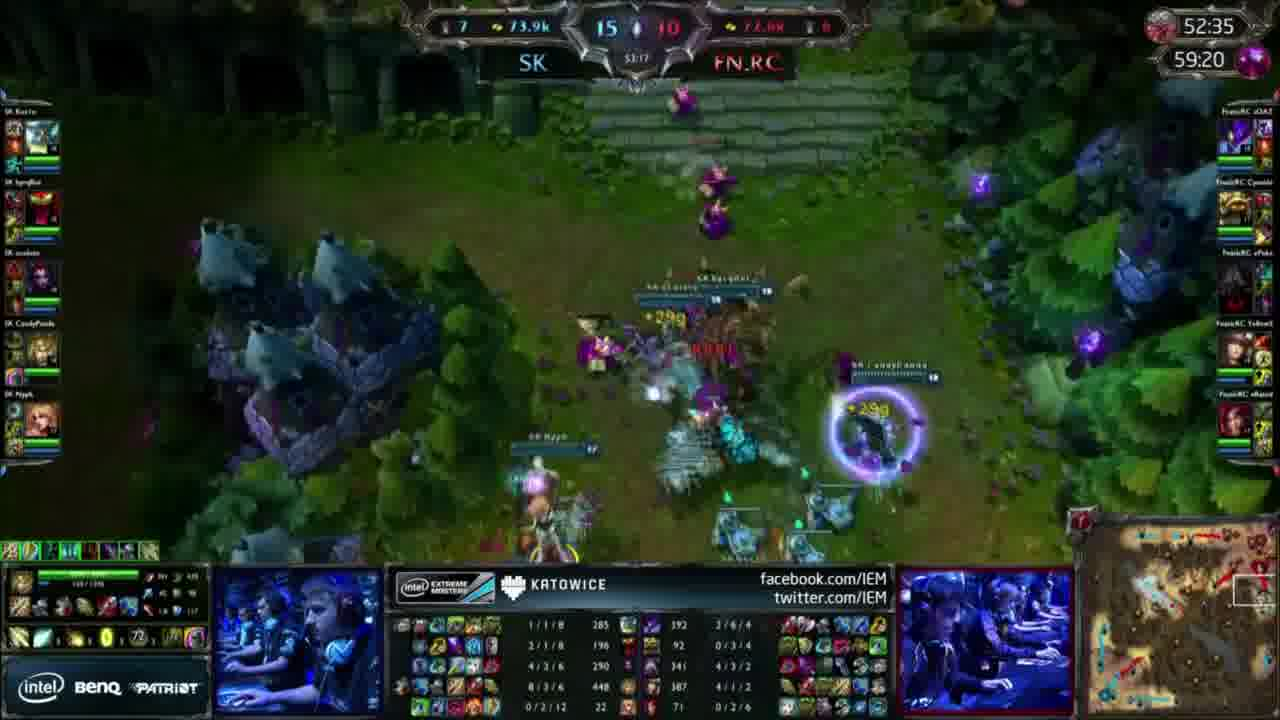bar: (503, 429, 606, 466), (682, 270, 780, 304), (840, 363, 947, 391), (638, 290, 727, 312)
